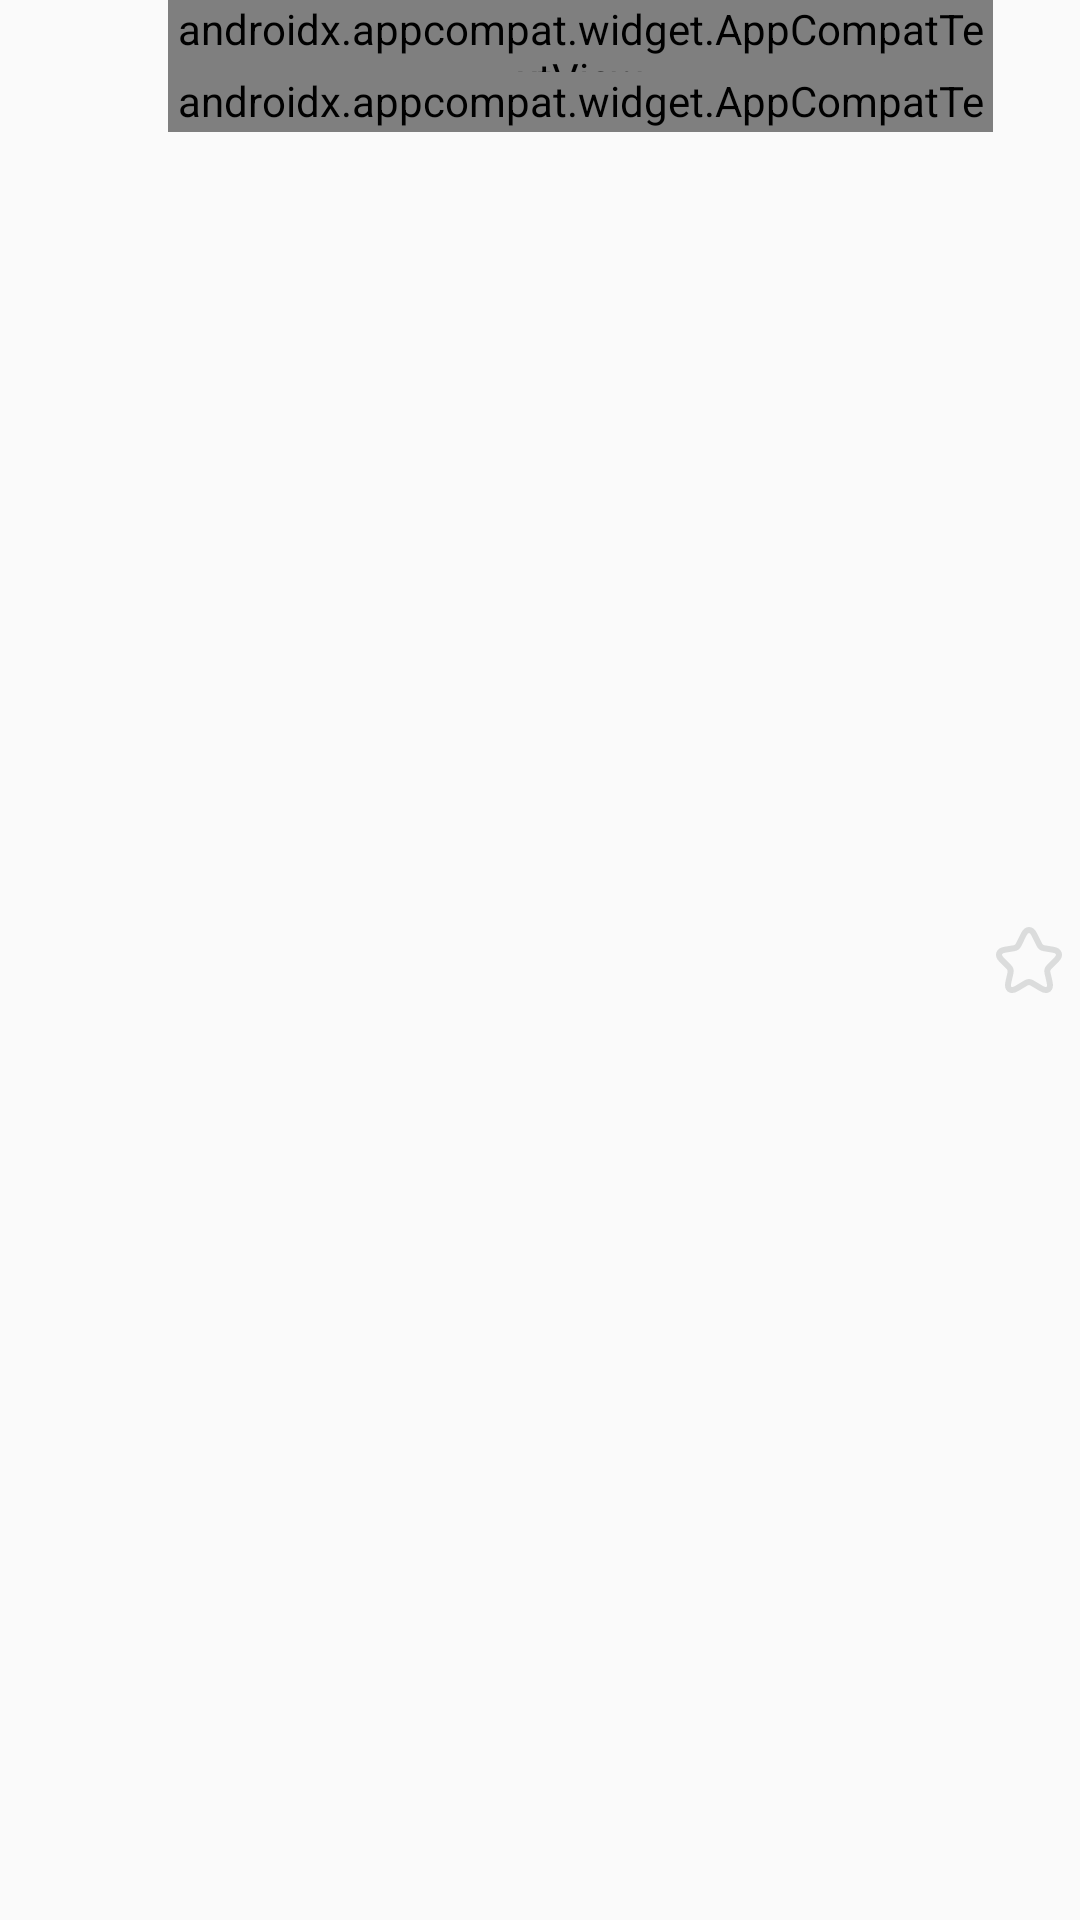

Icon bounding boxes for this 1080x1920 phone screenshot, format (x1, y1, x2, y2):
star: (996, 927, 1062, 993)
